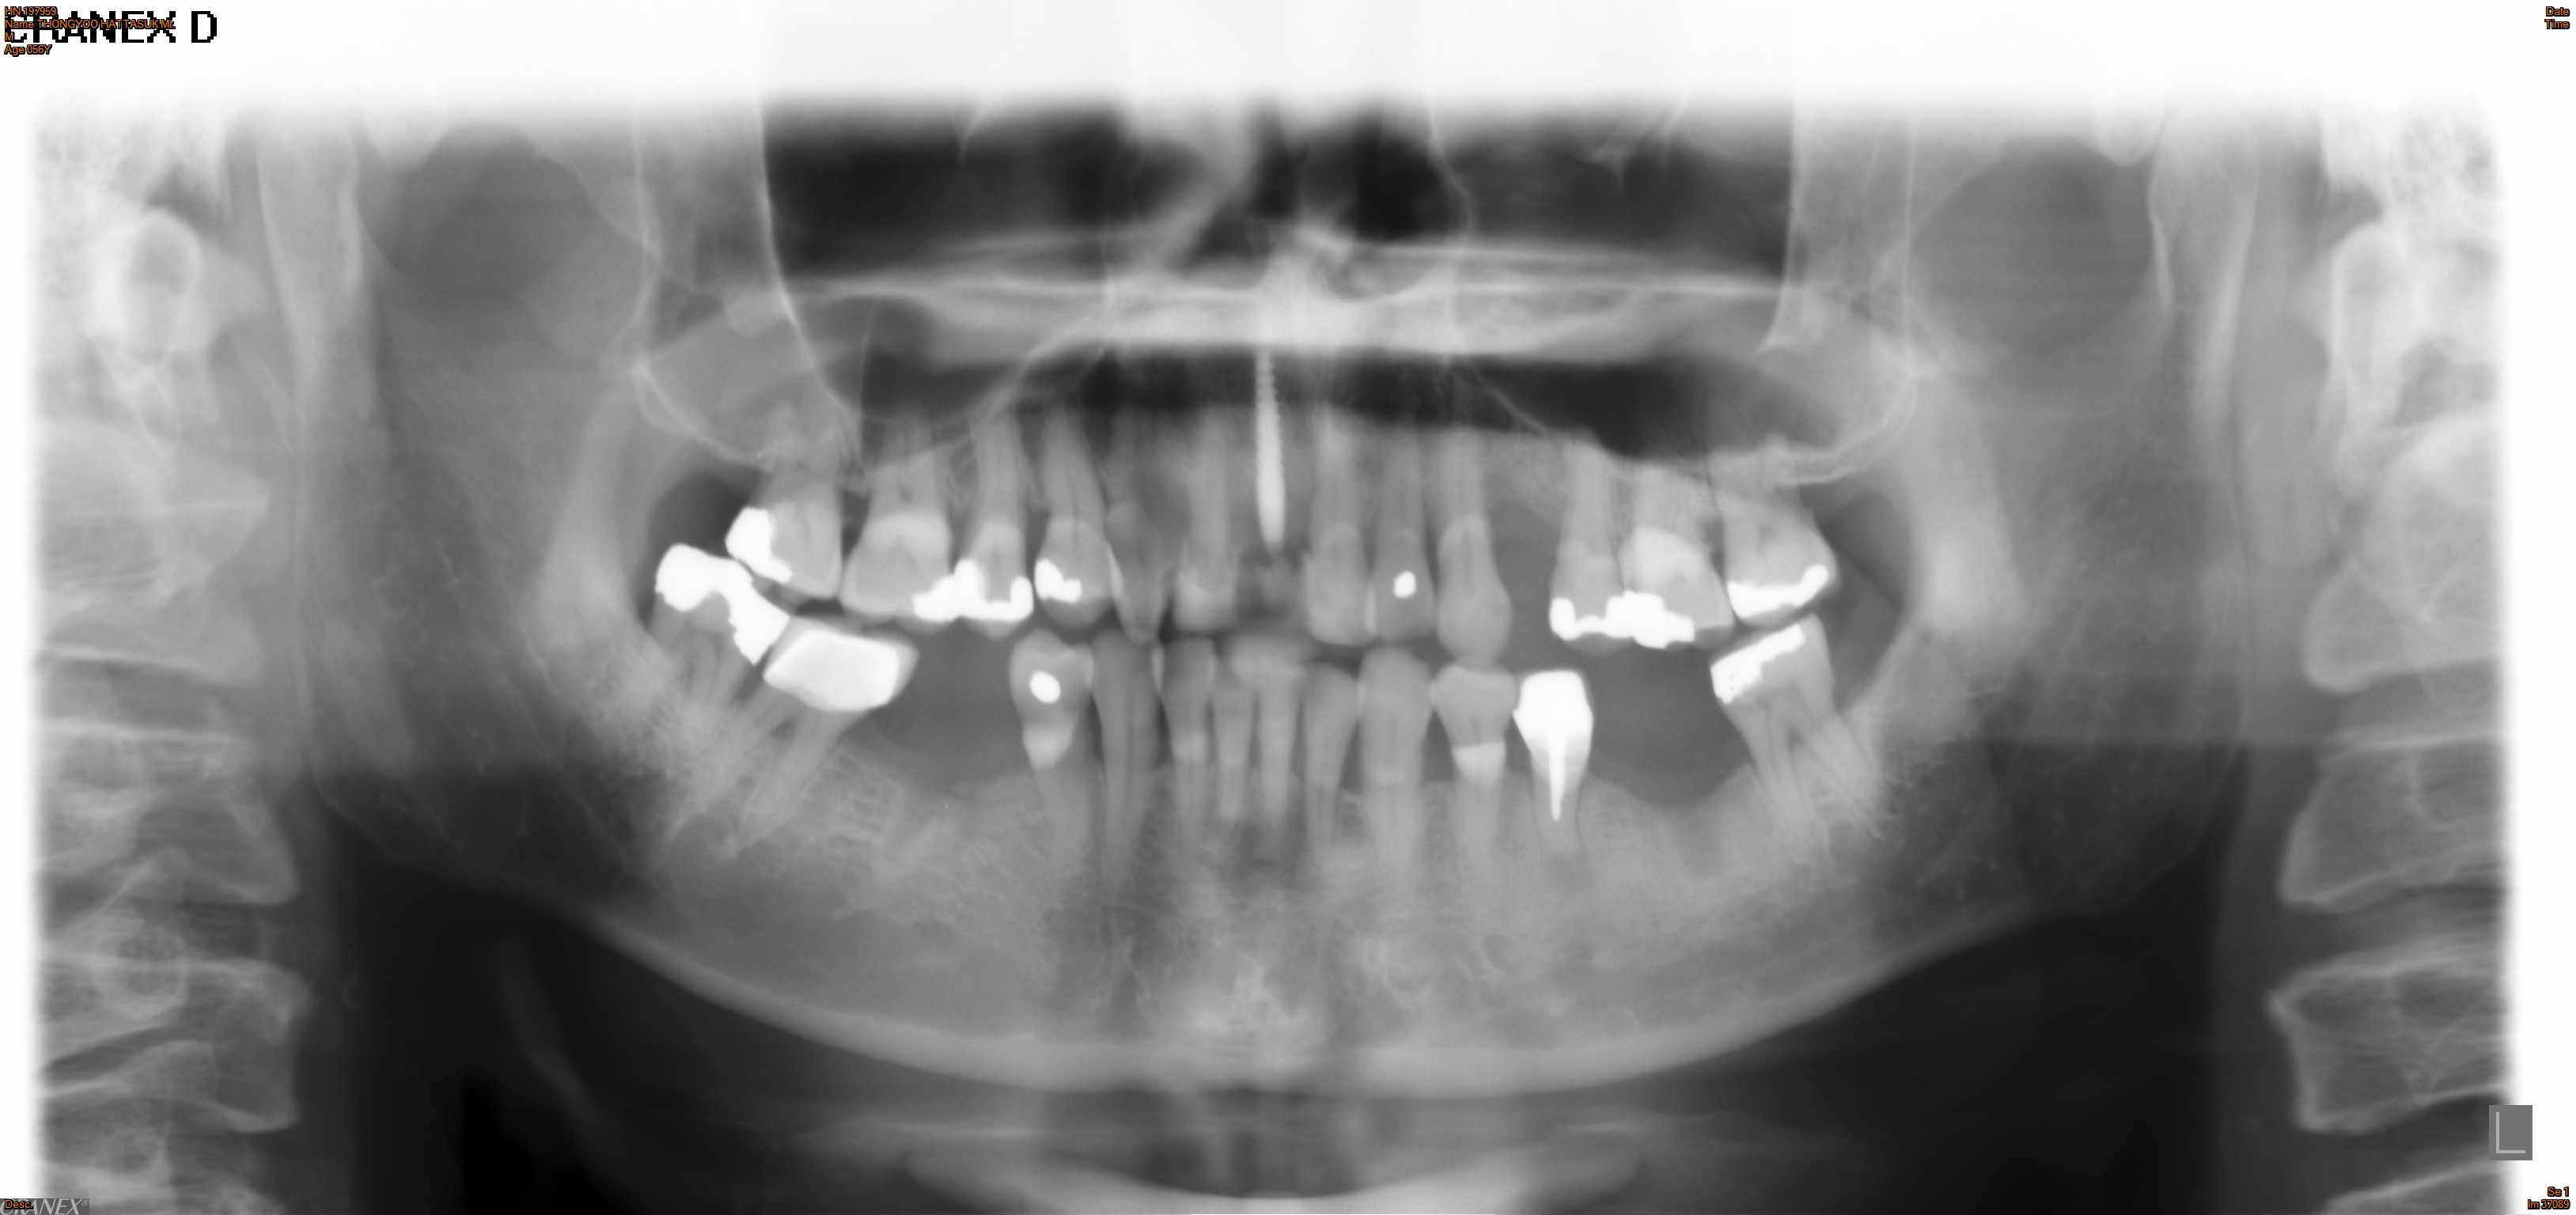periodontitis: (652, 607, 923, 870), (1704, 607, 1902, 883), (994, 621, 1114, 913), (718, 373, 859, 609), (1610, 414, 1745, 658), (1345, 626, 1442, 949), (830, 402, 963, 629), (1704, 417, 1848, 626), (1423, 642, 1528, 905), (1423, 396, 1518, 663), (1543, 417, 1635, 658), (948, 396, 1040, 635), (1506, 657, 1602, 880)
